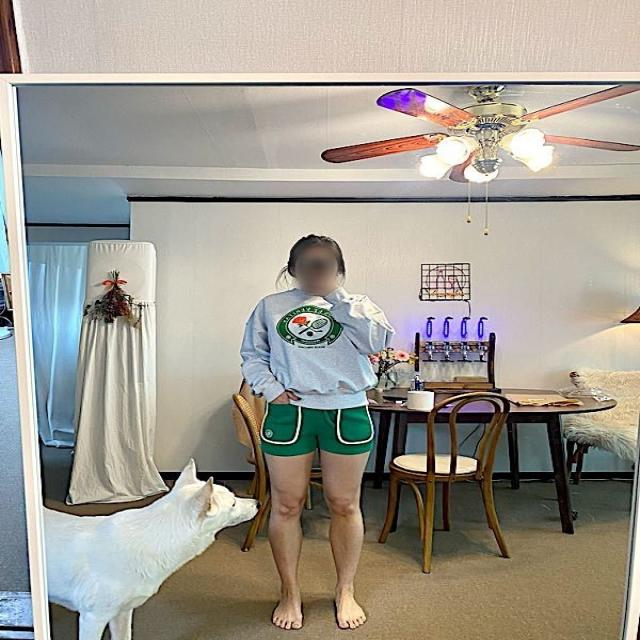mtm: (238, 286, 394, 409)
shortpants: (259, 399, 377, 457)
